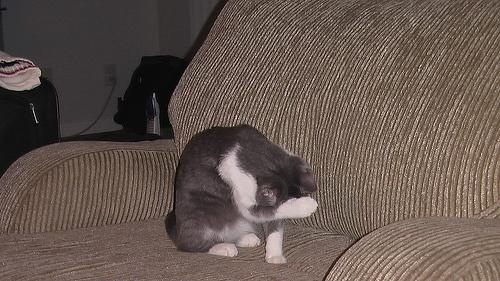cat: (164, 123, 320, 266)
chair: (1, 1, 500, 281)
